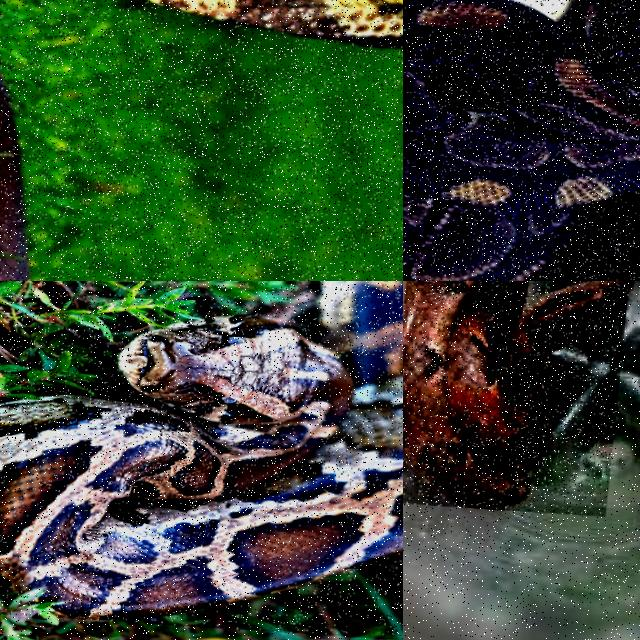Calloselasma rhodostoma: (403, 281, 628, 508)
Naja siamensis: (150, 0, 402, 46)
Python bivittatus: (0, 281, 402, 619), (403, 0, 639, 280)
snake: (0, 281, 402, 619), (403, 0, 639, 280), (403, 281, 628, 508), (150, 0, 402, 46)
